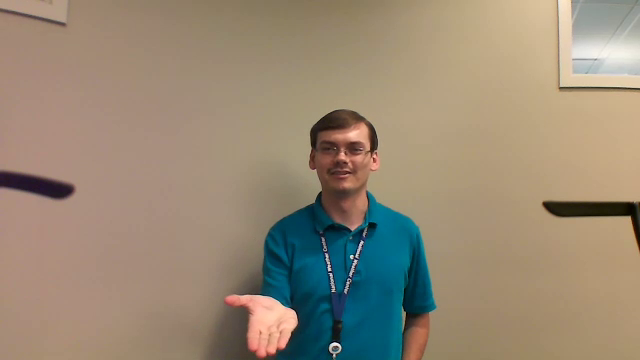land: (221, 287, 308, 360)
